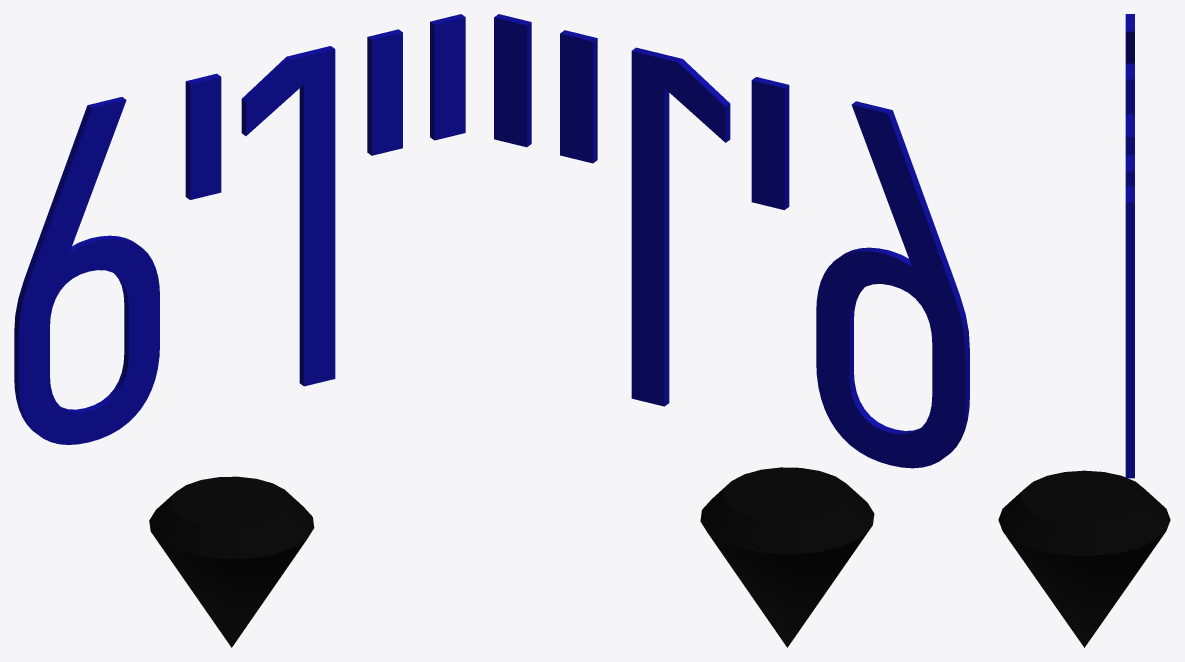
The model's file is SixFootOne.fbx.
3 views of the same model, side by side, from view 1: azimuth 30°, elevation 25°; view 2: azimuth 150°, elevation 25°; view 3: azimuth 270°, elevation 25° (orthographic). The views are drawn at different scales.
Parts seen in each view (by area): view 1: typeMesh2; view 2: typeMesh2; view 3: typeMesh2.
Boxes of the visible parts, x1,y1,x2,y2 form: typeMesh2: [14, 14, 465, 647]; typeMesh2: [494, 14, 969, 647]; typeMesh2: [998, 14, 1170, 647].
Bounding box in the file's own units: 16.95 × 20.07 × 5.47.
